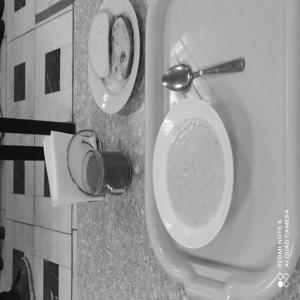bread: (87, 7, 115, 81)
cheese_sandwich: (111, 12, 138, 84)
coffee: (76, 146, 135, 197)
porridge: (155, 105, 238, 246)
